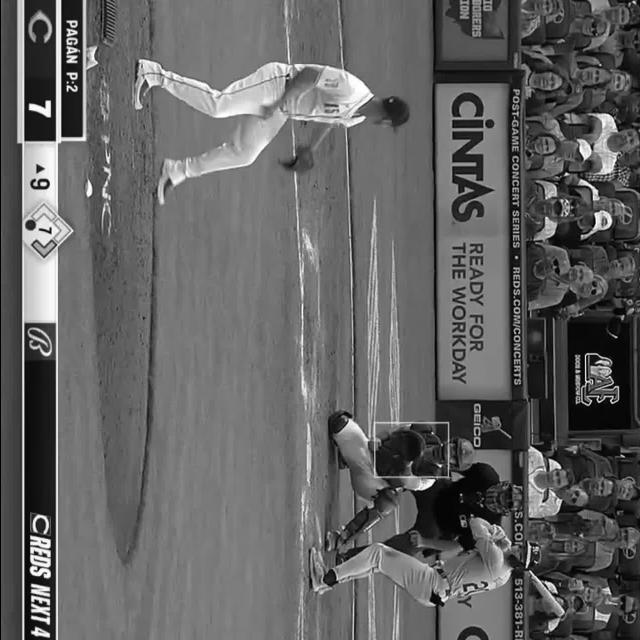base: (304, 414, 316, 488), (304, 421, 311, 486)
baseball_glove: (277, 146, 314, 174), (394, 431, 422, 464)
bat: (524, 572, 562, 616)
shoe: (132, 57, 156, 111), (155, 155, 177, 208), (308, 542, 328, 595)
